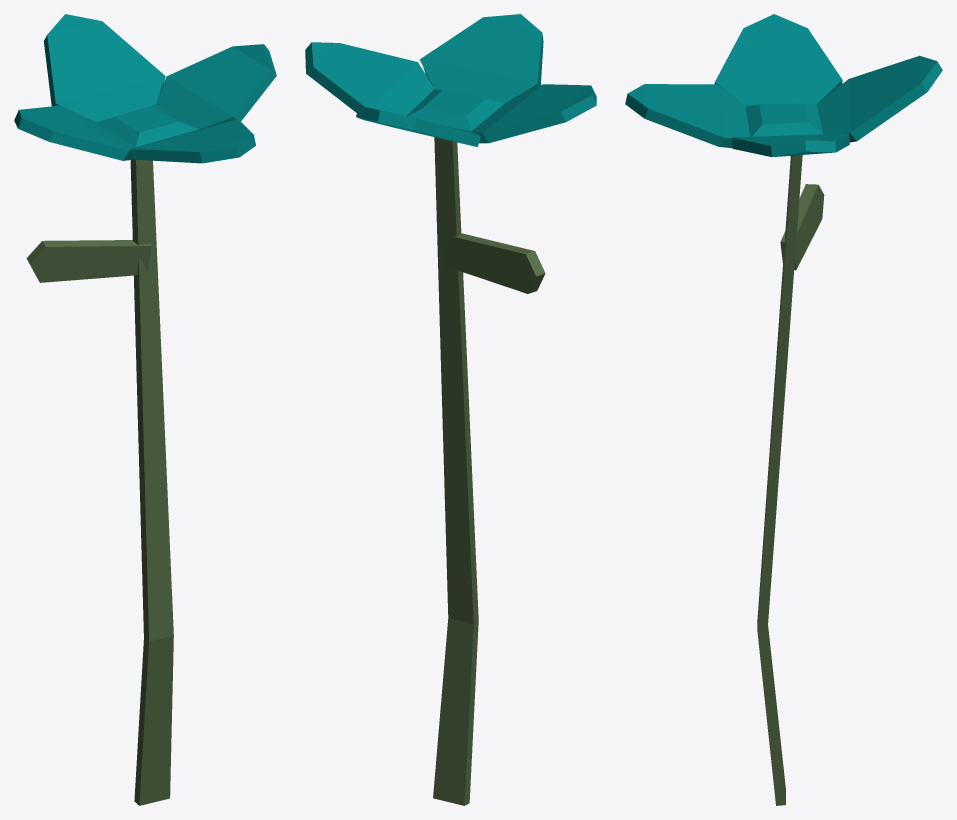
File: Flower_3.glb
3 views of the same model, side by side, from view 1: azimuth 30°, elevation 25°; view 2: azimuth 150°, elevation 25°; view 3: azimuth 270°, elevation 25° (orthographic). The views are drawn at different scales.
Parts seen in each view (by area): view 1: Flower_3; view 2: Flower_3; view 3: Flower_3.
Part boxes in pixels (x1,y1,x2,y2): Flower_3: (14, 14, 276, 805); Flower_3: (305, 14, 596, 805); Flower_3: (625, 14, 942, 805).
Bounding box in the file's own units: 0.1941 × 0.5071 × 0.1992.
